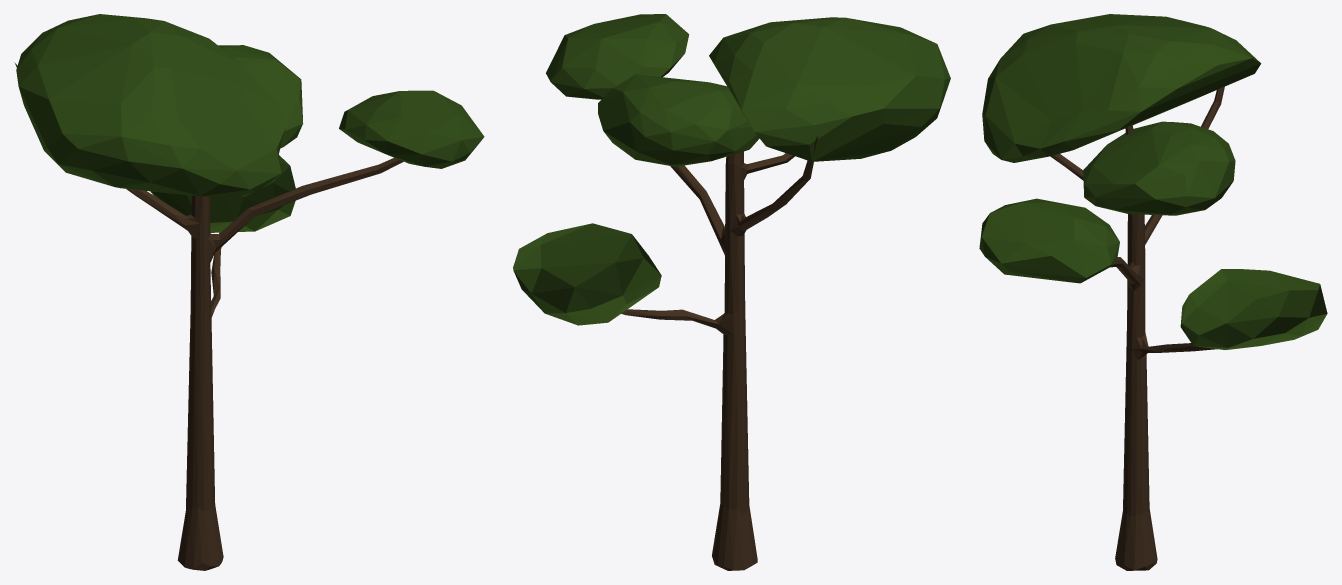
Rendered from SM_tree_03.fbx.
The picture shows the model from 3 angles, left to right: view 1: azimuth 30°, elevation 25°; view 2: azimuth 150°, elevation 25°; view 3: azimuth 270°, elevation 25°; orthographic projection. The views are drawn at different scales.
Visible parts, largest first — view 1: Object011; view 2: Object011; view 3: Object011.
Boxes of the visible parts, x1=… form: Object011: x1=14, y1=14, x2=484, y2=570; Object011: x1=513, y1=14, x2=950, y2=570; Object011: x1=979, y1=14, x2=1327, y2=570.
Bounding box in the file's own units: 150 × 199 × 124.
